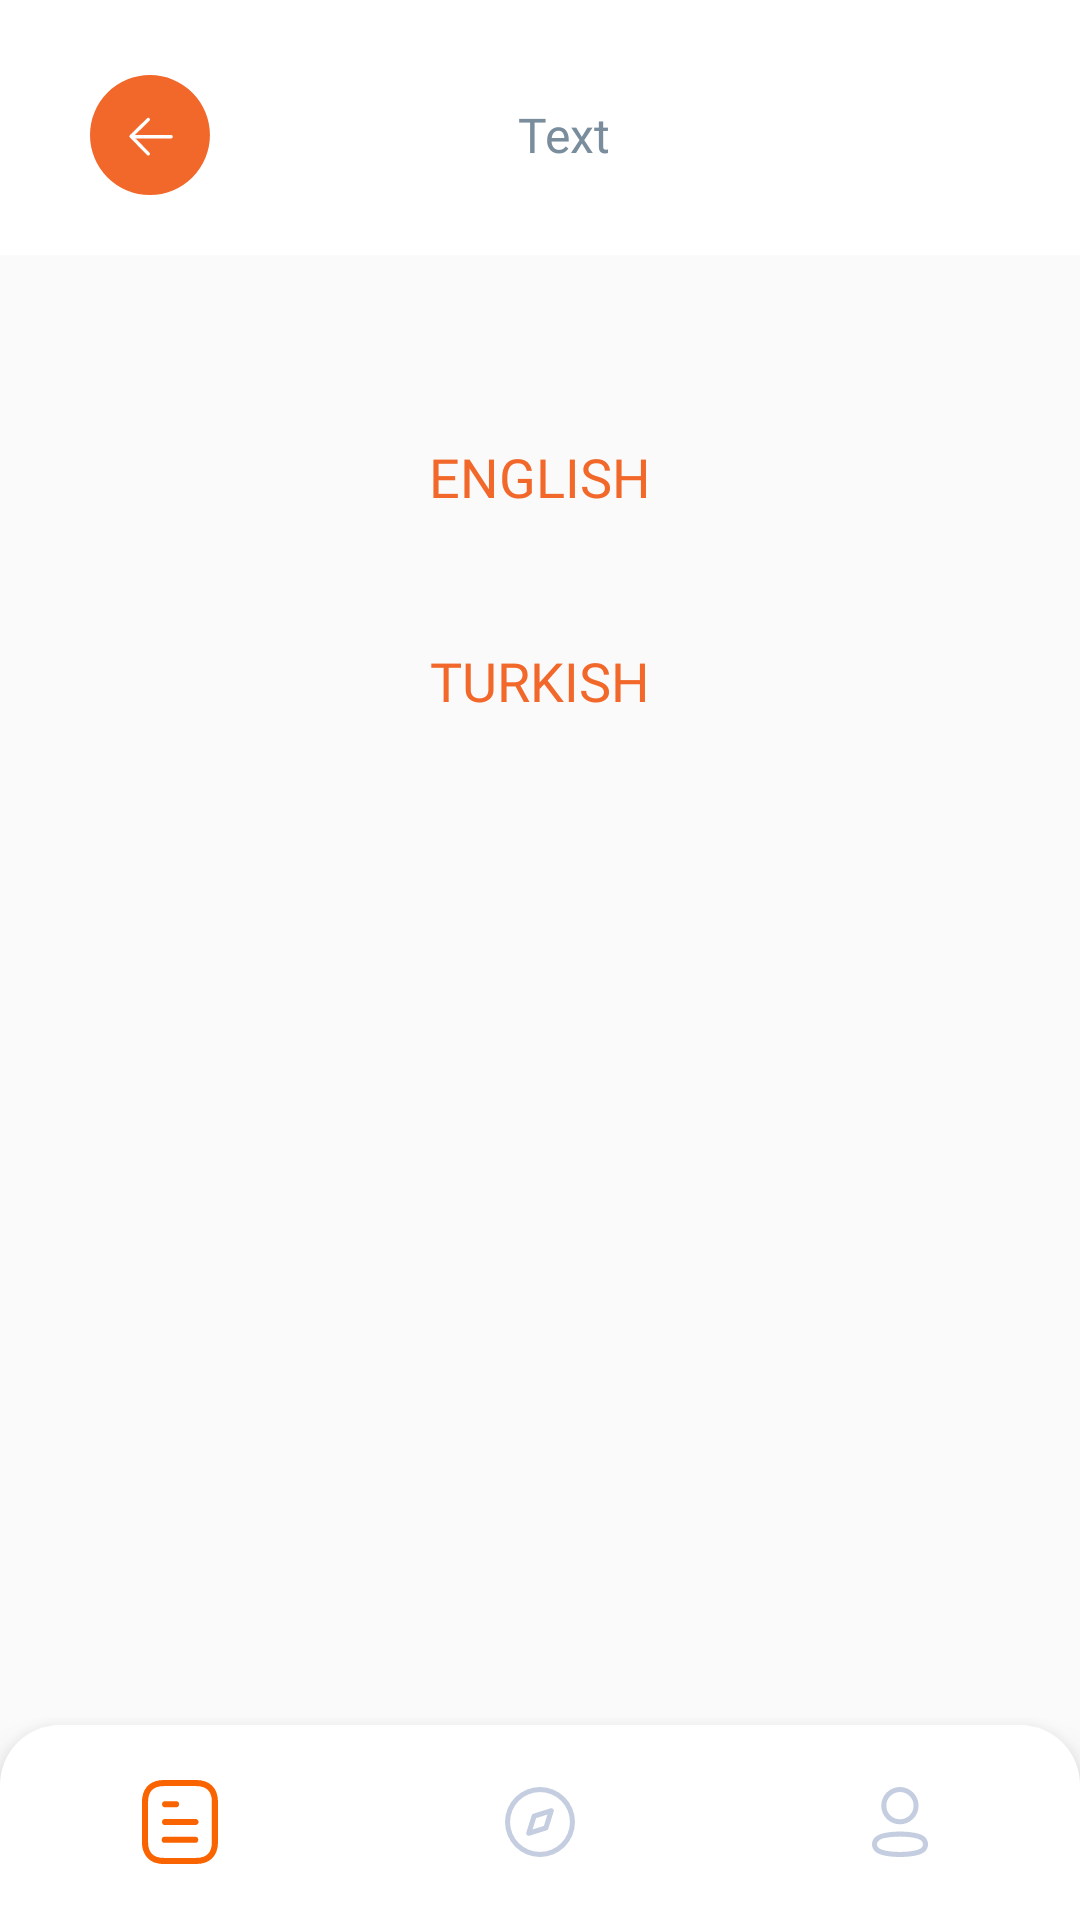

Named icons in this screenshot (1080px x 1920px) and their bounding boxes, [left=x1, top=y1, right=x2, bottom=y2]:
back: [left=90, top=75, right=210, bottom=195]
